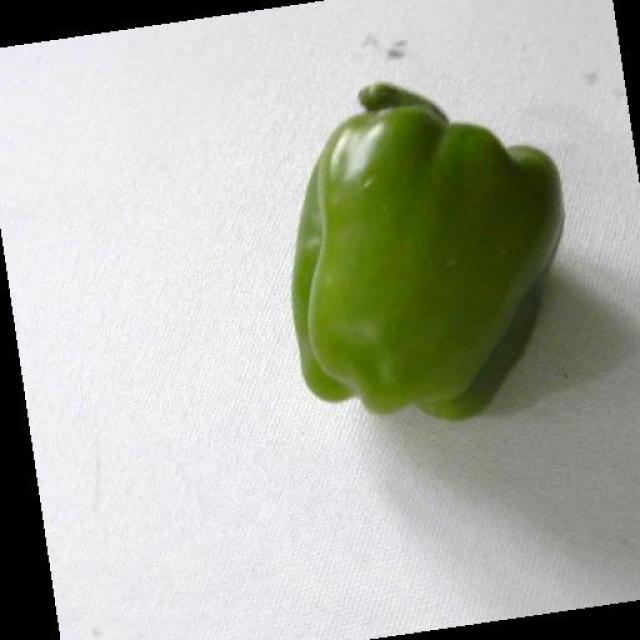Fresh_Capsicum: (310, 86, 556, 414)
